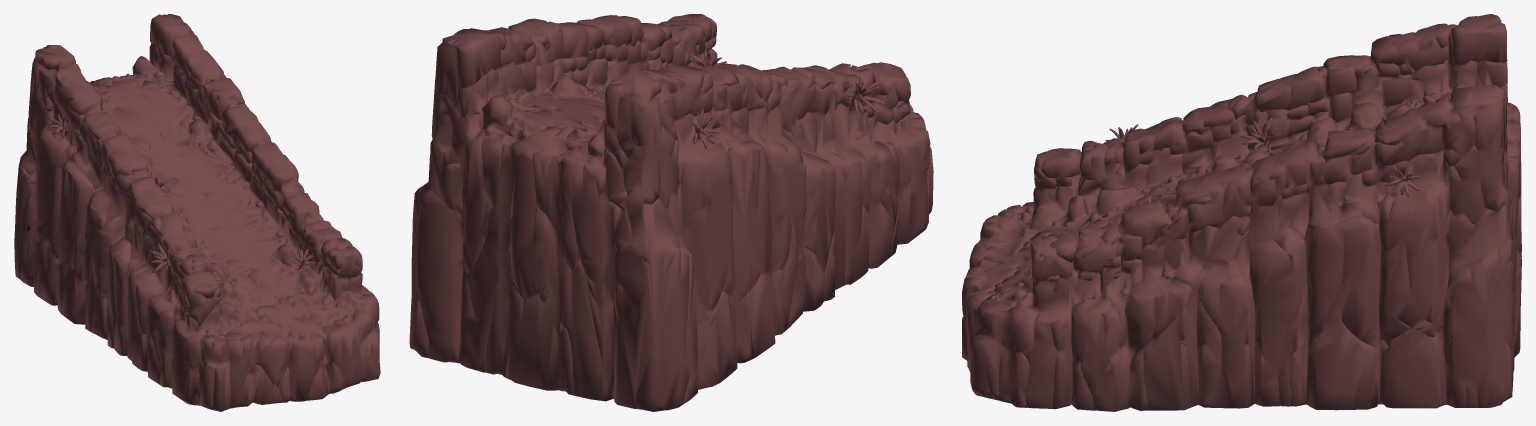
File: puente_de_piedra_del_desierto.glb
The picture shows the model from 3 angles, left to right: view 1: azimuth 30°, elevation 25°; view 2: azimuth 150°, elevation 25°; view 3: azimuth 270°, elevation 25°; orthographic projection. The views are drawn at different scales.
Parts seen in each view (by area): view 1: puente_de_piedra_del_desierto; view 2: puente_de_piedra_del_desierto; view 3: puente_de_piedra_del_desierto.
Boxes of the visible parts, x1=… form: puente_de_piedra_del_desierto: x1=14, y1=14, x2=380, y2=411; puente_de_piedra_del_desierto: x1=409, y1=14, x2=933, y2=411; puente_de_piedra_del_desierto: x1=962, y1=14, x2=1521, y2=411.
Size of what is drawn, in the model's own units: 4.27 by 4.67 by 8.
Materials: 1 (1 with a texture image).
